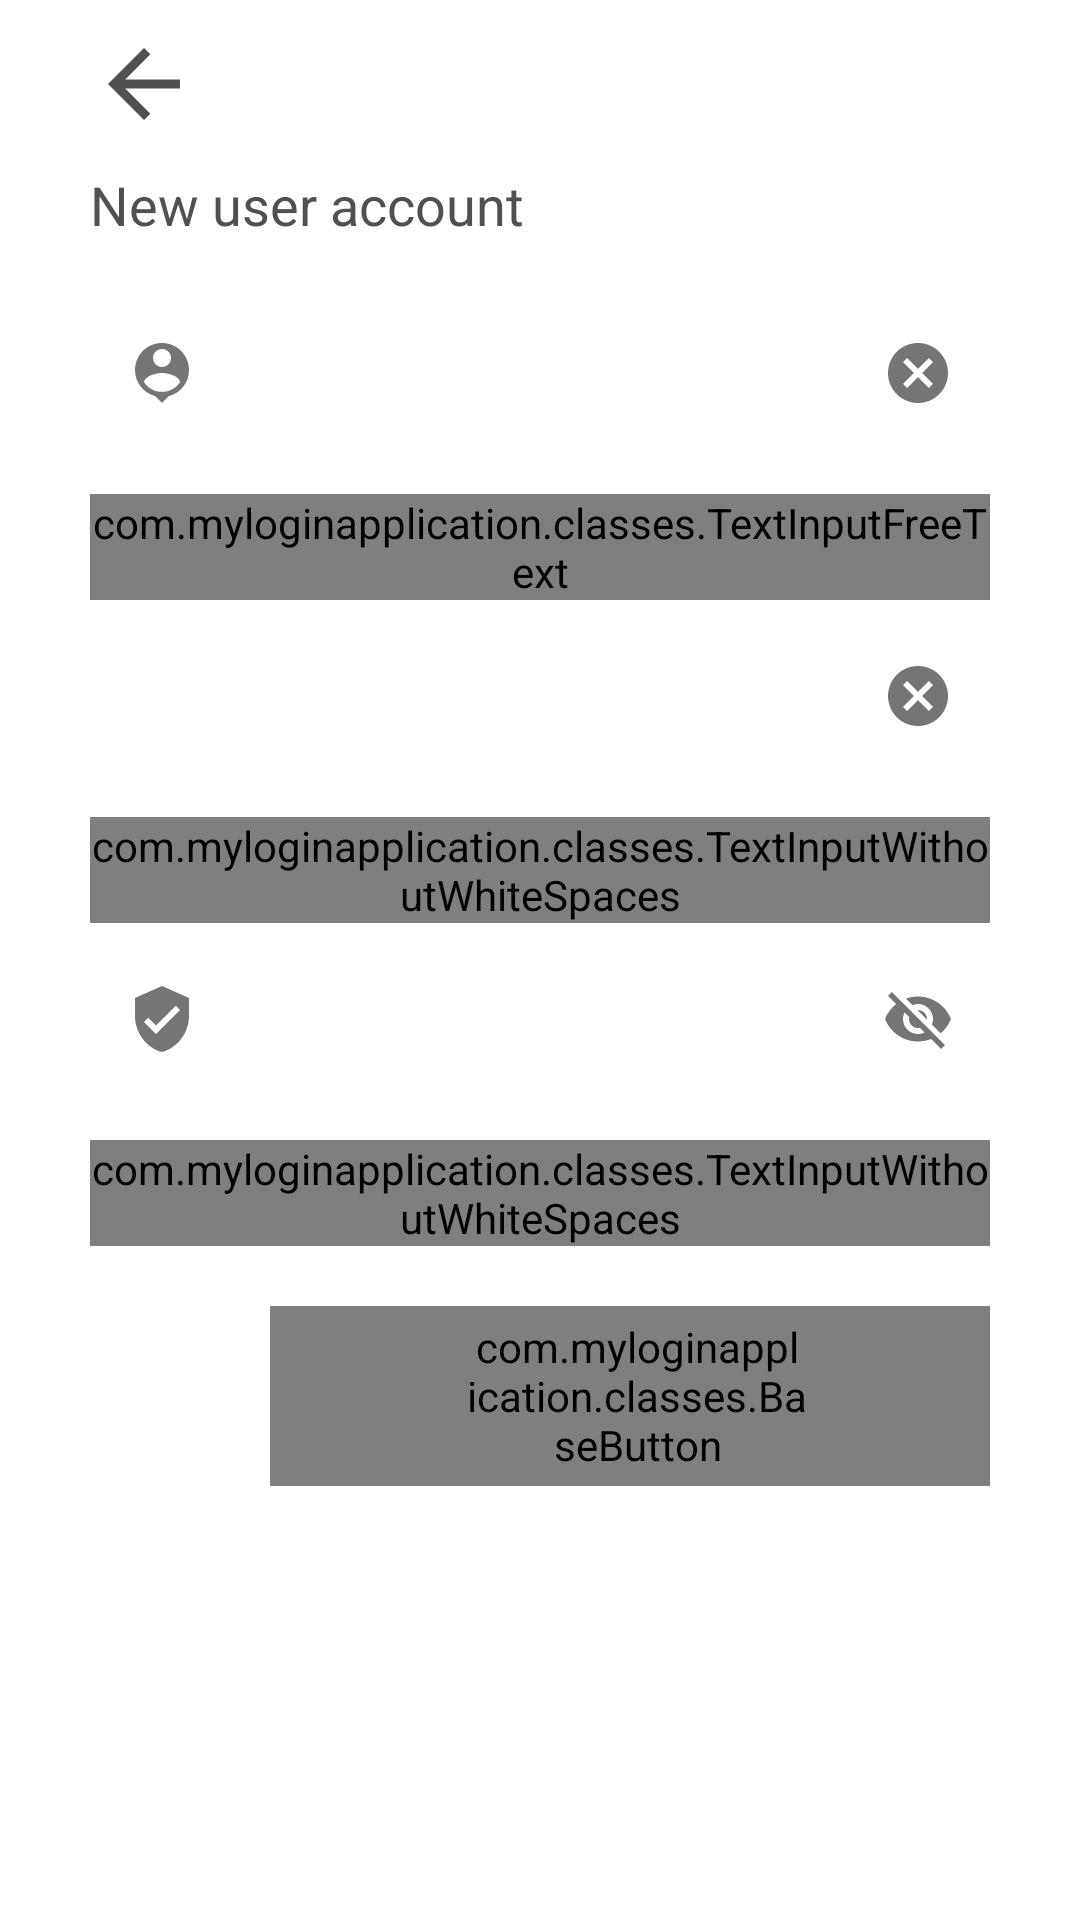

Where to tap for icons on this 1080×1920 app screen, as [x,y]:
Back button: [144,84]
